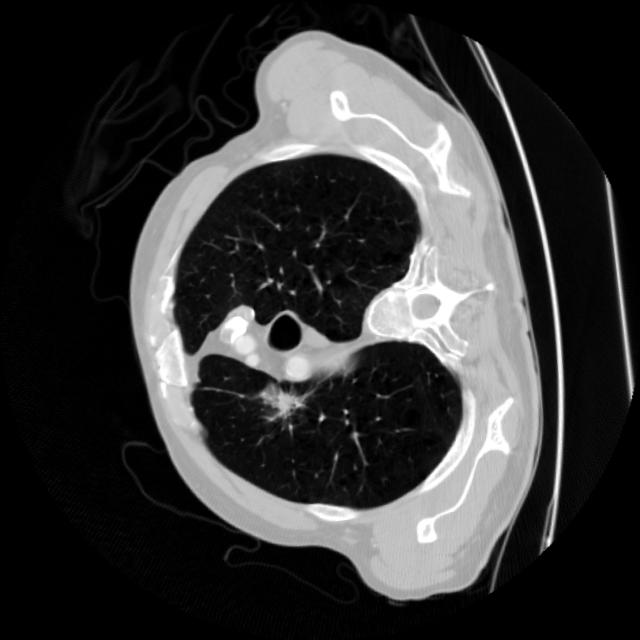nodule: (237, 357, 324, 444)
